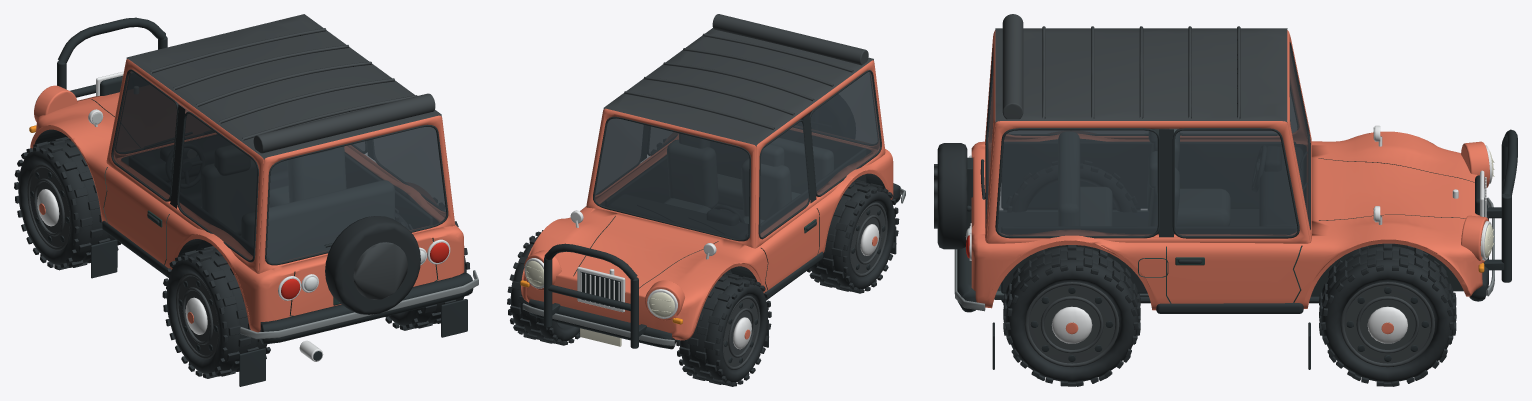
File: tumbler_lod1.fbx
3 renders of one model, left to right at view 1: azimuth 30°, elevation 25°; view 2: azimuth 150°, elevation 25°; view 3: azimuth 270°, elevation 25°, orthographic. The views are drawn at different scales.
Visible parts, largest first — view 1: Body, Wheel_FL_Mesh, Wheel_RL_Mesh, Wheel_RR_Mesh; view 2: Body, Wheel_FL_Mesh, Wheel_RL_Mesh, Wheel_FR_Mesh; view 3: Body, Wheel_FR_Mesh, Wheel_RR_Mesh, Wheel_RL_Mesh.
Part boxes in pixels (x1=…): Body: x1=29, y1=14, x2=478, y2=386; Wheel_FL_Mesh: x1=14, y1=137, x2=121, y2=270; Wheel_RL_Mesh: x1=162, y1=246, x2=270, y2=378; Wheel_RR_Mesh: x1=385, y1=208, x2=469, y2=330; Body: x1=520, y1=14, x2=905, y2=349; Wheel_FL_Mesh: x1=676, y1=272, x2=771, y2=386; Wheel_RL_Mesh: x1=807, y1=179, x2=899, y2=293; Wheel_FR_Mesh: x1=507, y1=230, x2=580, y2=345; Body: x1=934, y1=14, x2=1517, y2=369; Wheel_FR_Mesh: x1=1319, y1=243, x2=1456, y2=386; Wheel_RR_Mesh: x1=1003, y1=245, x2=1140, y2=386; Wheel_RL_Mesh: x1=1003, y1=160, x2=1140, y2=212.
Bounding box in the file's own units: 210 × 200 × 396.
